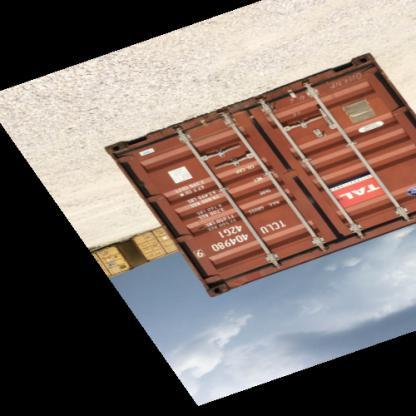Damage: (230, 100, 266, 126)
